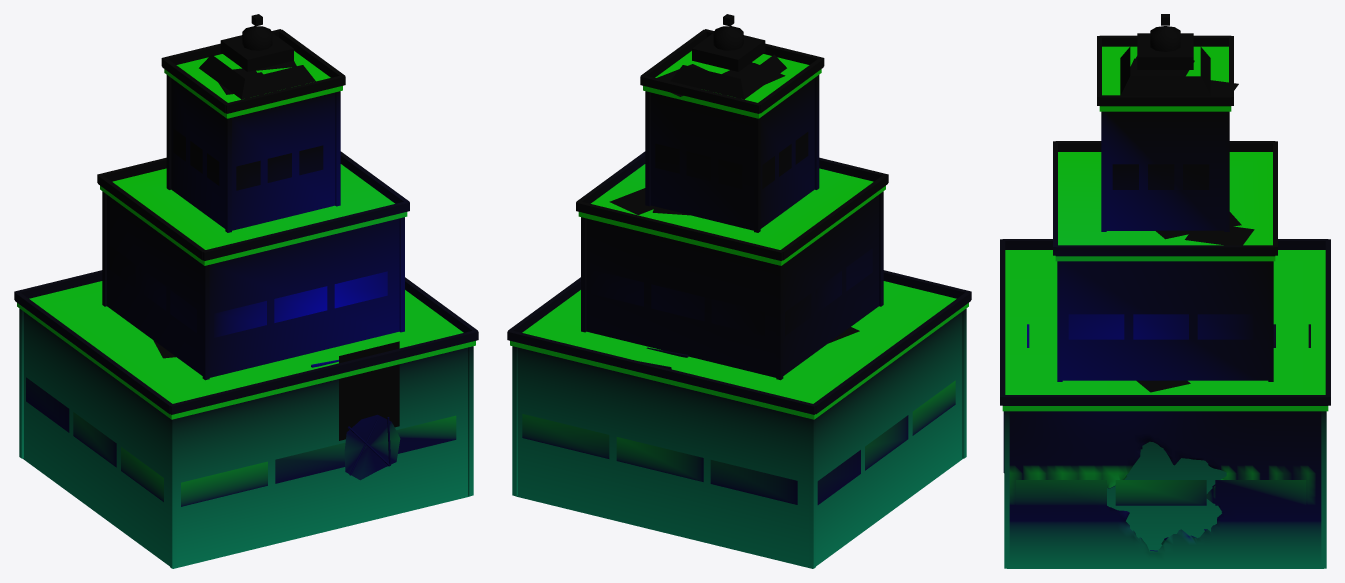
Rendered from trafcon_damaged.glb.
3 renders of one model, left to right at view 1: azimuth 30°, elevation 25°; view 2: azimuth 150°, elevation 25°; view 3: azimuth 270°, elevation 25°, orthographic. The views are drawn at different scales.
Visible parts, largest first — view 1: lod0; view 2: lod0; view 3: lod0.
Boxes of the visible parts, x1,y1,x2,y2 form: lod0: (14, 14, 478, 568); lod0: (507, 14, 971, 568); lod0: (1000, 14, 1330, 568).
Size of what is drawn, in the model's own units: 21.3 by 30.25 by 18.8.
